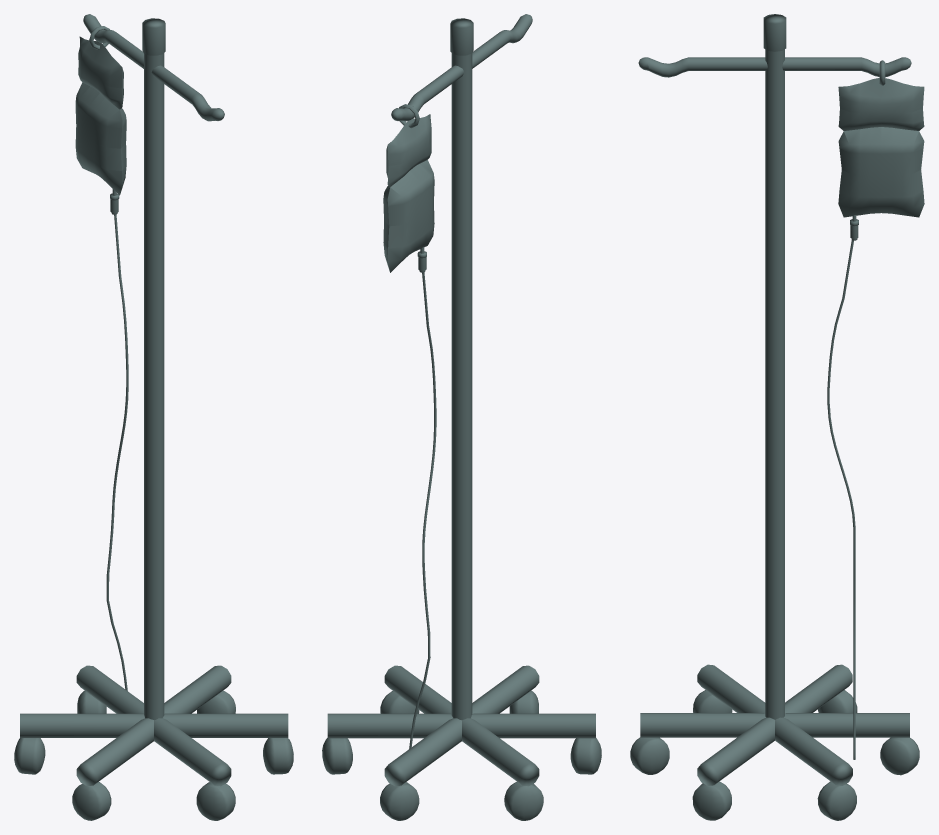
Rendered from poche_sang.fbx.
3 views of the same model, side by side, from view 1: azimuth 30°, elevation 25°; view 2: azimuth 150°, elevation 25°; view 3: azimuth 270°, elevation 25° (orthographic).
Parts seen in each view (by area): view 1: poche_sang; view 2: poche_sang; view 3: poche_sang.
Boxes of the visible parts, box(x1,y1,x2,y2) form: poche_sang: box(14, 14, 293, 820); poche_sang: box(322, 14, 601, 820); poche_sang: box(630, 14, 924, 820).
Size of the model in its own units: 2.35 by 7.7 by 2.72.
